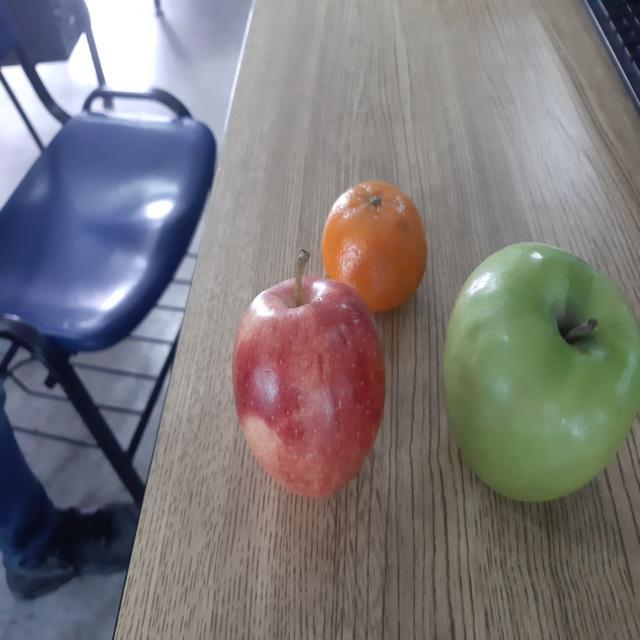Apel Gala: (230, 245, 388, 504)
Apel Granny Smith: (437, 236, 640, 508)
Jeruk Mandarin: (319, 176, 433, 314)
